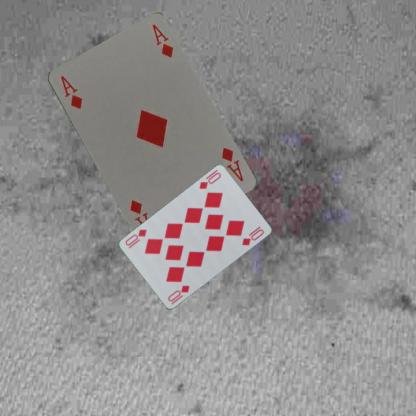10d: (165, 283, 191, 306), (197, 170, 223, 191)
Ad: (218, 142, 244, 182), (58, 73, 83, 110)
